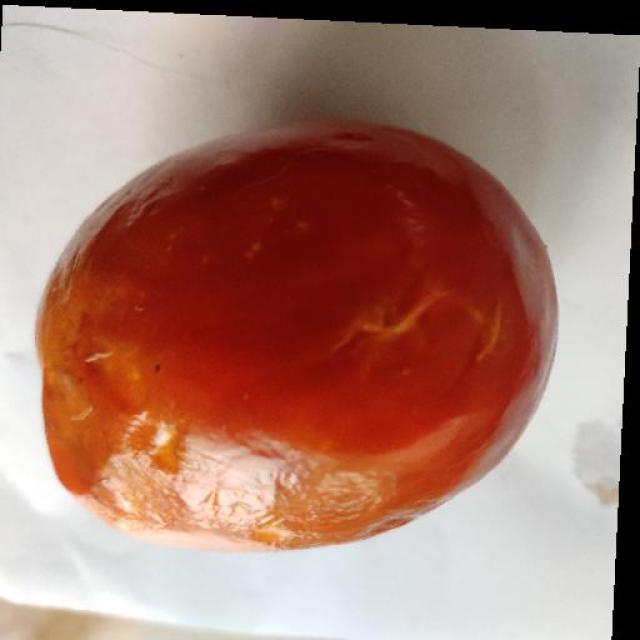Stale_tomato: (31, 118, 577, 571)
